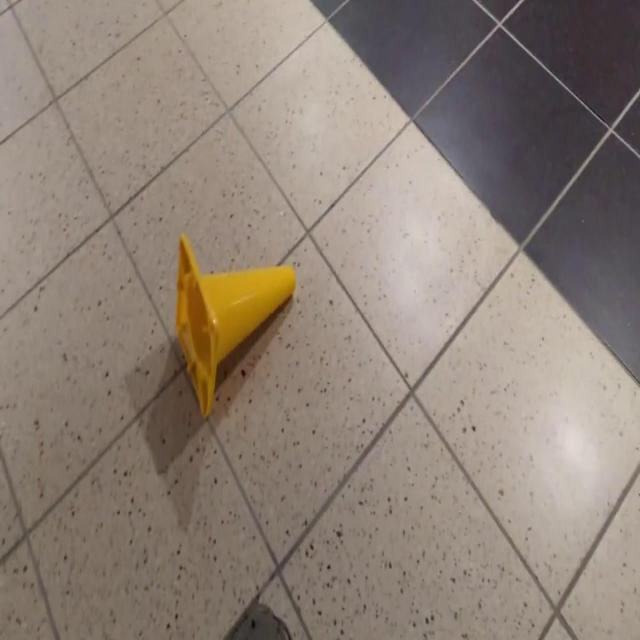frc_cone: (178, 232, 296, 421)
